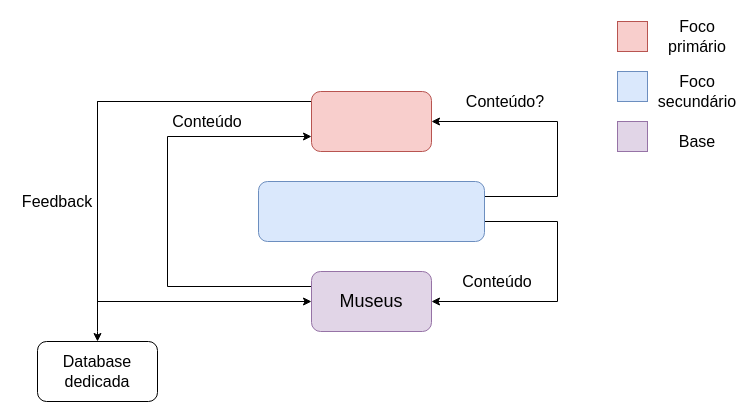
This 753x419 diagram has some shape labels left out. Each missing label, with the centre of its shape:
"Pesquisadores/Curadores" goes at (x=371, y=211).
"Público" goes at (x=371, y=121).
